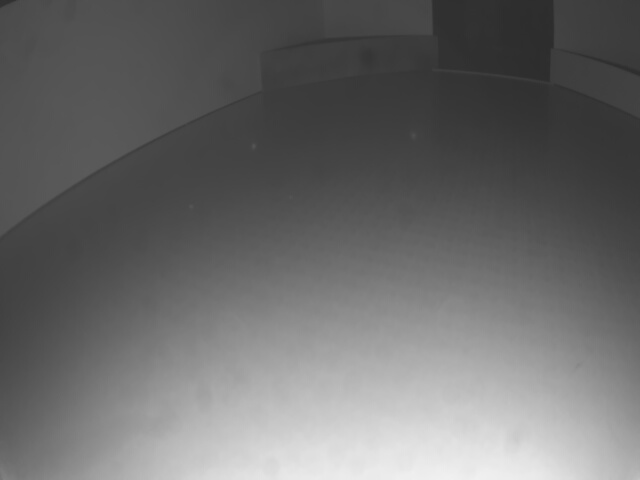Green: (259, 38, 439, 93)
Red: (552, 48, 640, 122)
